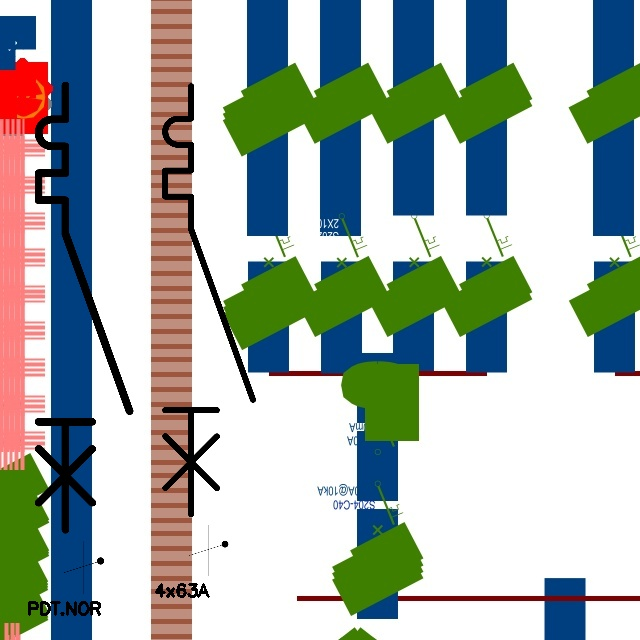interruptor_termomagnetico: (27, 74, 141, 541), (154, 75, 264, 525)
